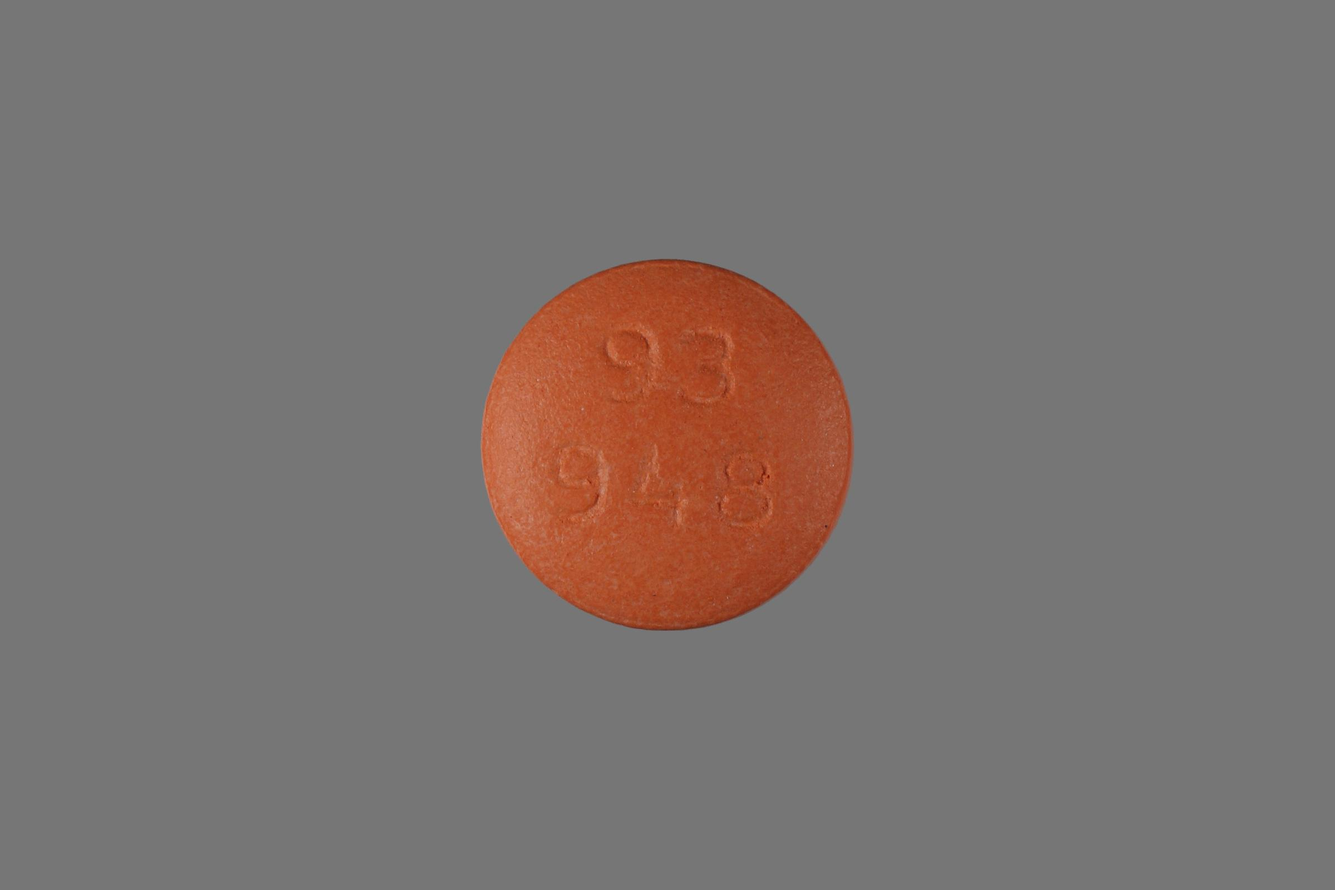Pill: (473, 249, 861, 640)
